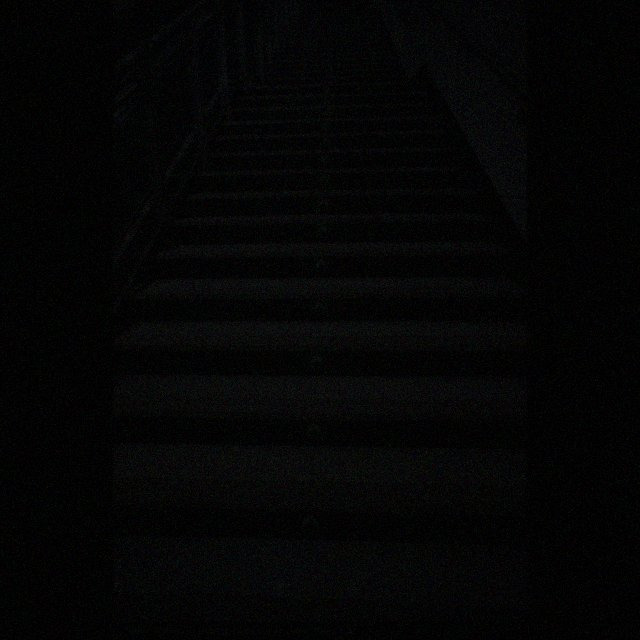stair: (112, 0, 526, 639)
